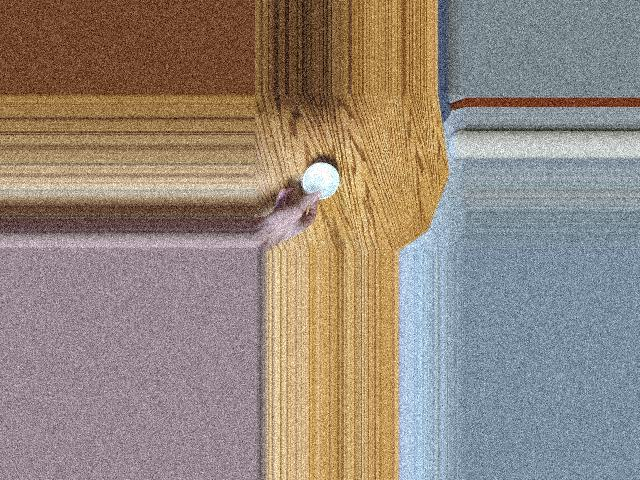cotage: (302, 162, 342, 200)
